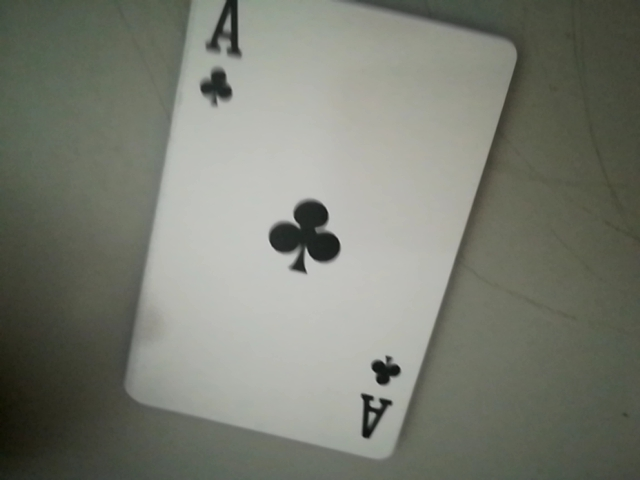mh a: (185, 4, 247, 121), (357, 350, 411, 451)
